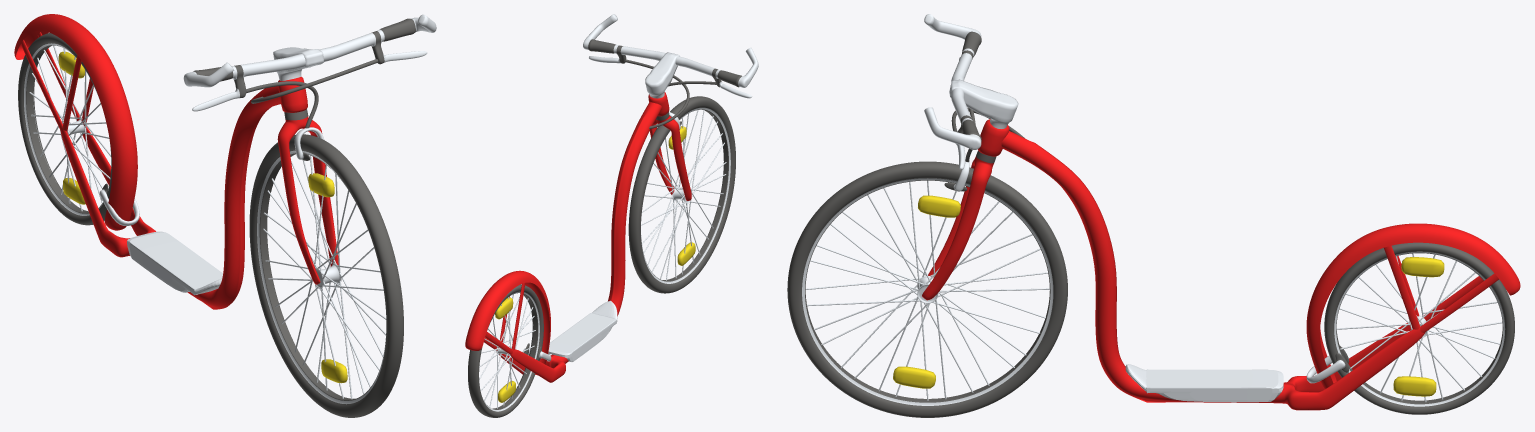
Rendered from scooter.gltf.
3 renders of one model, left to right at view 1: azimuth 30°, elevation 25°; view 2: azimuth 150°, elevation 25°; view 3: azimuth 270°, elevation 25°, orthographic. The views are drawn at different scales.
Parts seen in each view (by area): view 1: node-0; view 2: node-0; view 3: node-0.
Part boxes in pixels (x1,y1,x2,y2): node-0: [14, 14, 436, 417]; node-0: [465, 14, 758, 417]; node-0: [787, 14, 1520, 417].
Bounding box in the file's own units: 2.19 × 3.26 × 6.09.
